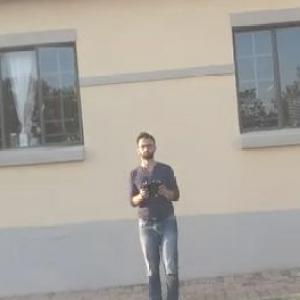follow: (124, 121, 187, 299)
